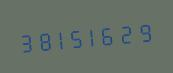eight: (34, 24, 50, 56)
five: (68, 21, 84, 53)
nine: (136, 15, 152, 47)
one: (51, 23, 67, 54), (85, 20, 101, 51)
six: (102, 18, 118, 50)
three: (17, 26, 33, 57)
two: (119, 17, 135, 48)
